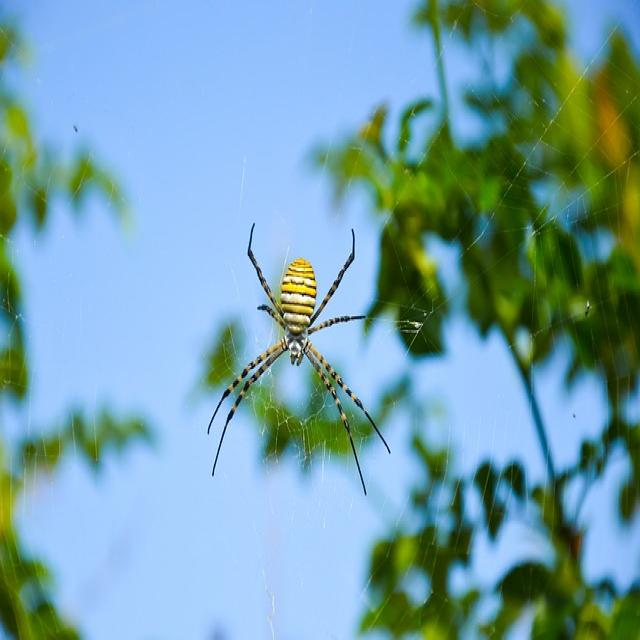spyder: (209, 226, 380, 479)
